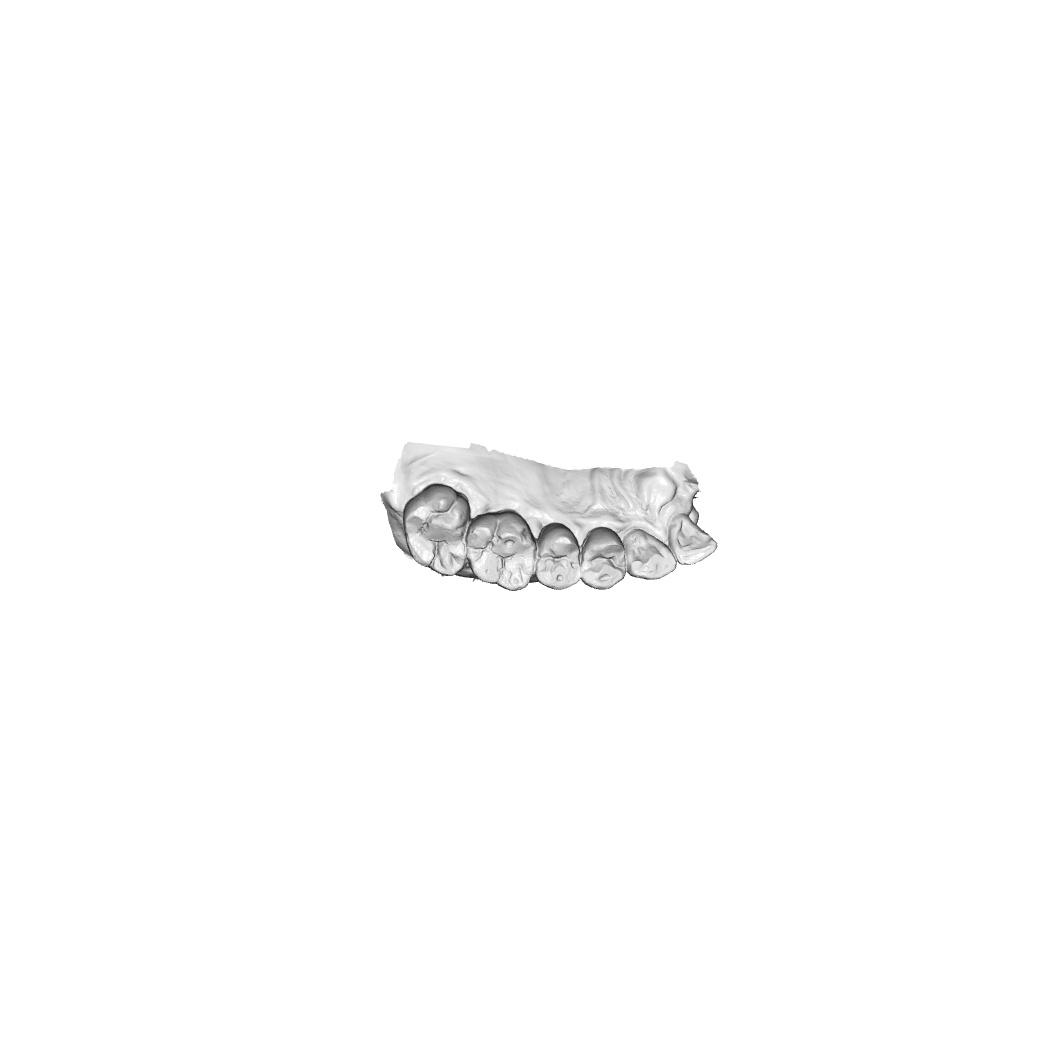canine: (622, 527, 677, 582)
incisor: (668, 513, 718, 566)
molar: (402, 482, 472, 577), (465, 510, 537, 592)
premolar: (533, 521, 582, 591), (580, 526, 626, 591)
